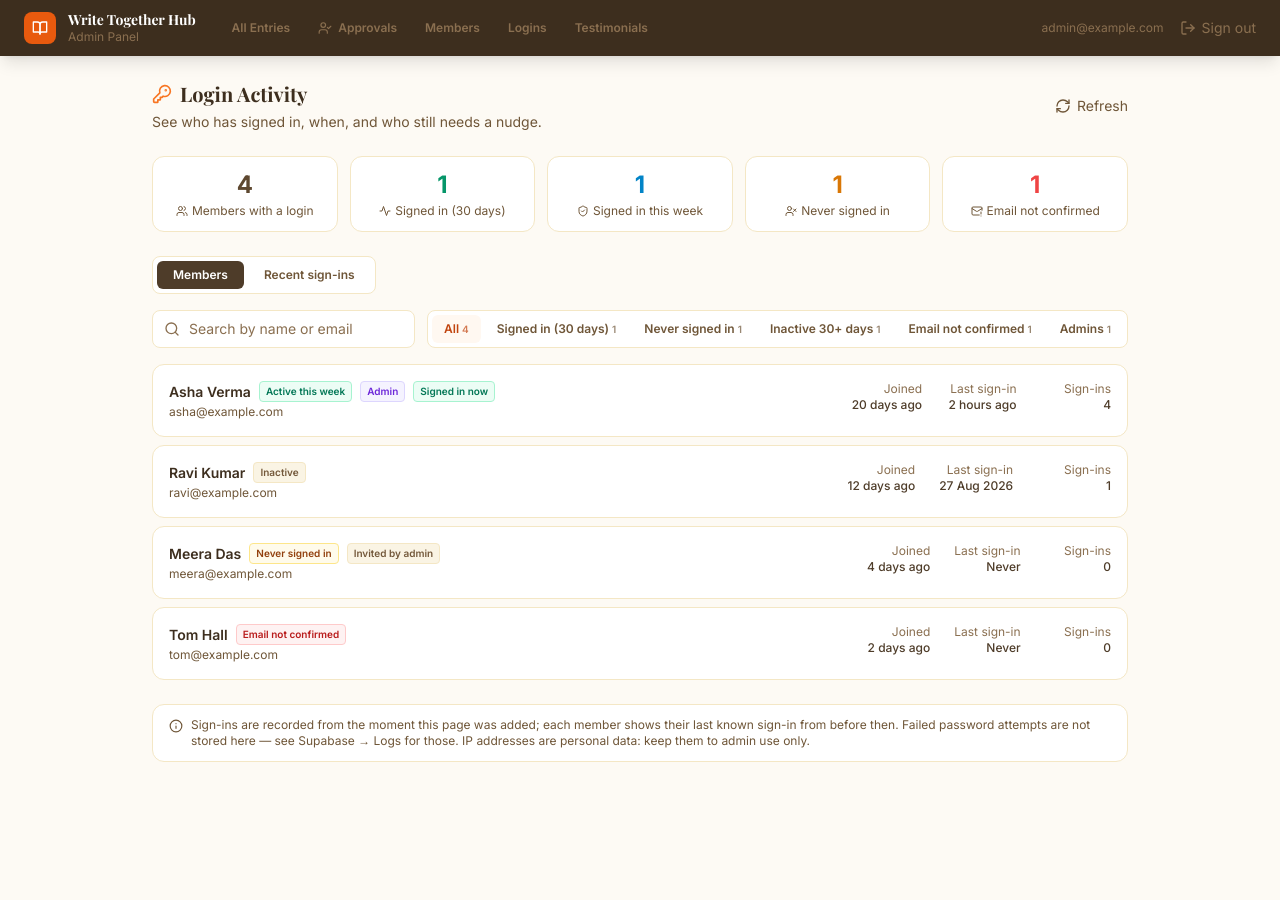
Test: AdminLogins page › filters to people who never signed in
Check: the text "Asha Verma" is shown, box [169, 382, 251, 402]
Click the button "Never signed in 1": [693, 329] box [632, 315, 754, 343]
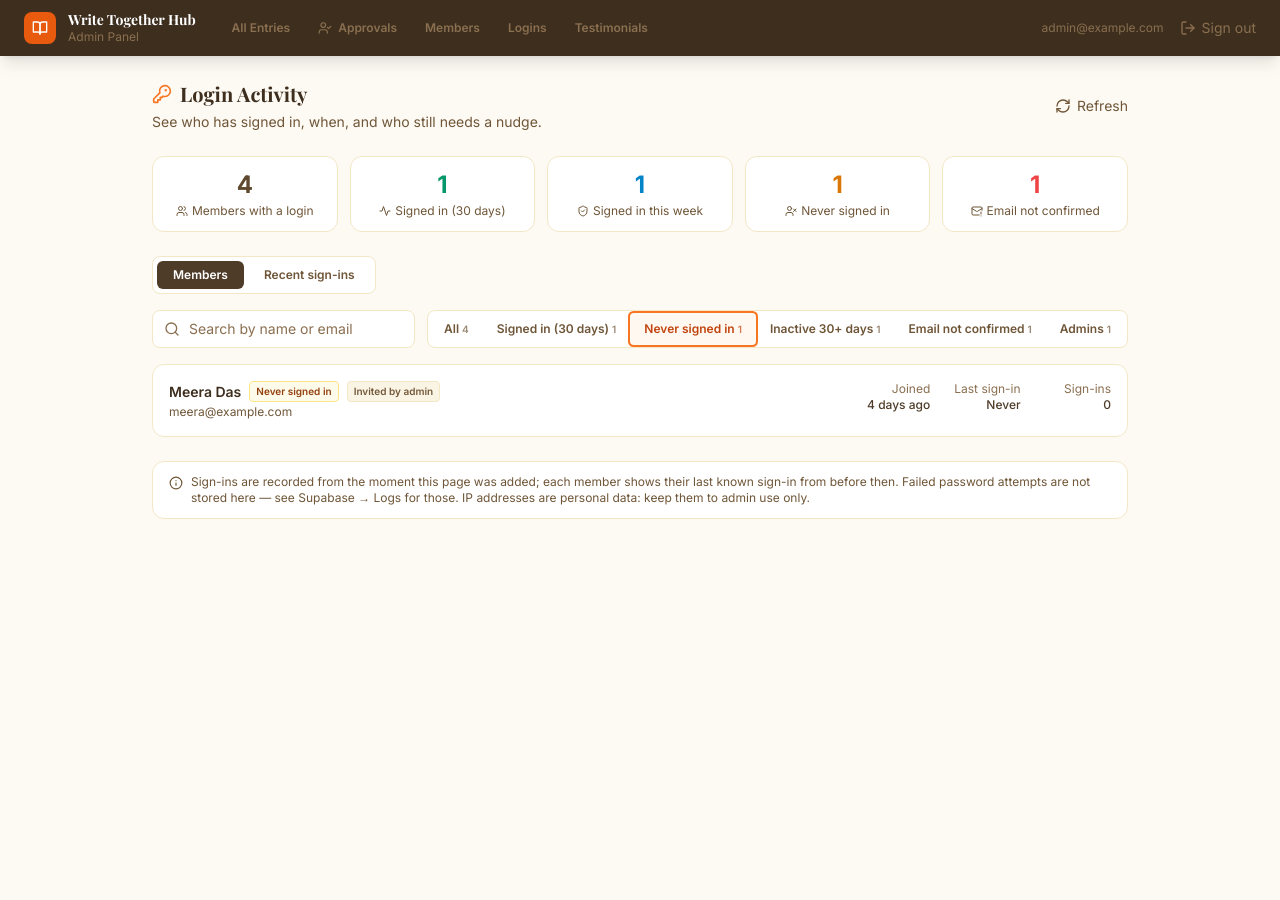
Check: the text "Meera Das" is shown, box [169, 382, 241, 402]
Check: the text "Asha Verma" is gone
Check: the text "Ravi Kumar" is gone
